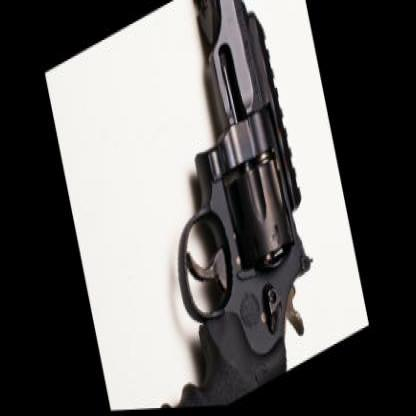pistol: (57, 0, 335, 413)
